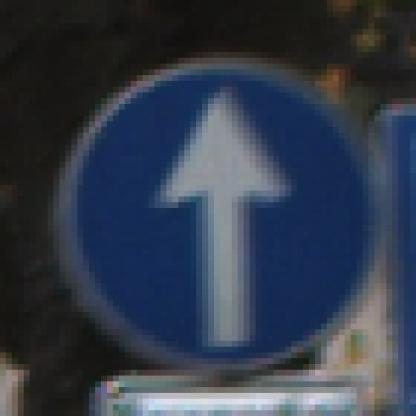AheadOnly: (43, 42, 381, 383)
